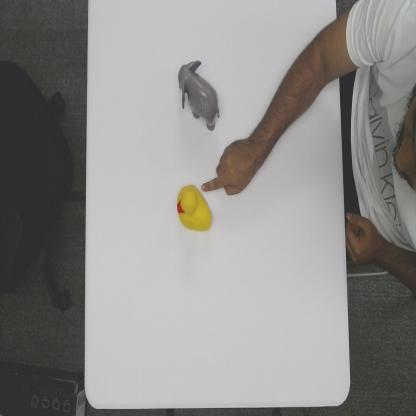Arm: (248, 25, 339, 158)
Duck: (176, 184, 213, 235)
Elephant: (177, 60, 221, 132)
Hand: (200, 142, 260, 197)
